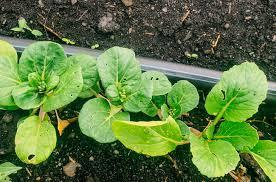Healthy-Pechay: (0, 45, 175, 111), (194, 63, 276, 176), (82, 107, 197, 155)
